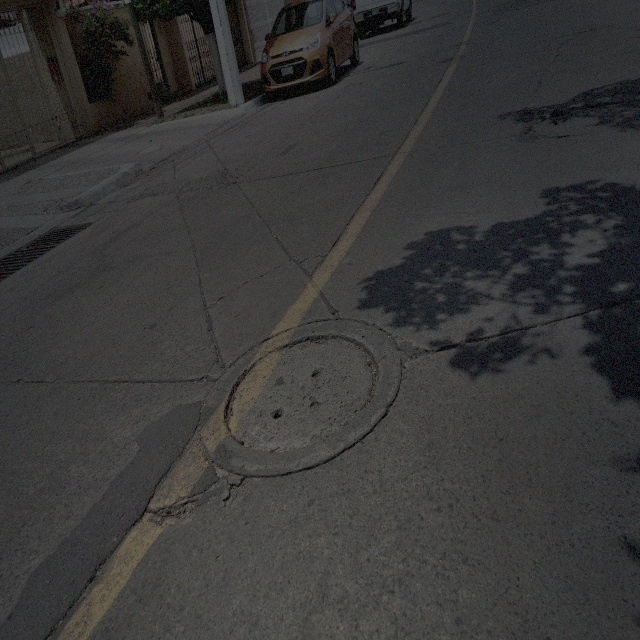pothole: (144, 498, 195, 524), (224, 476, 252, 516), (228, 374, 237, 427)
